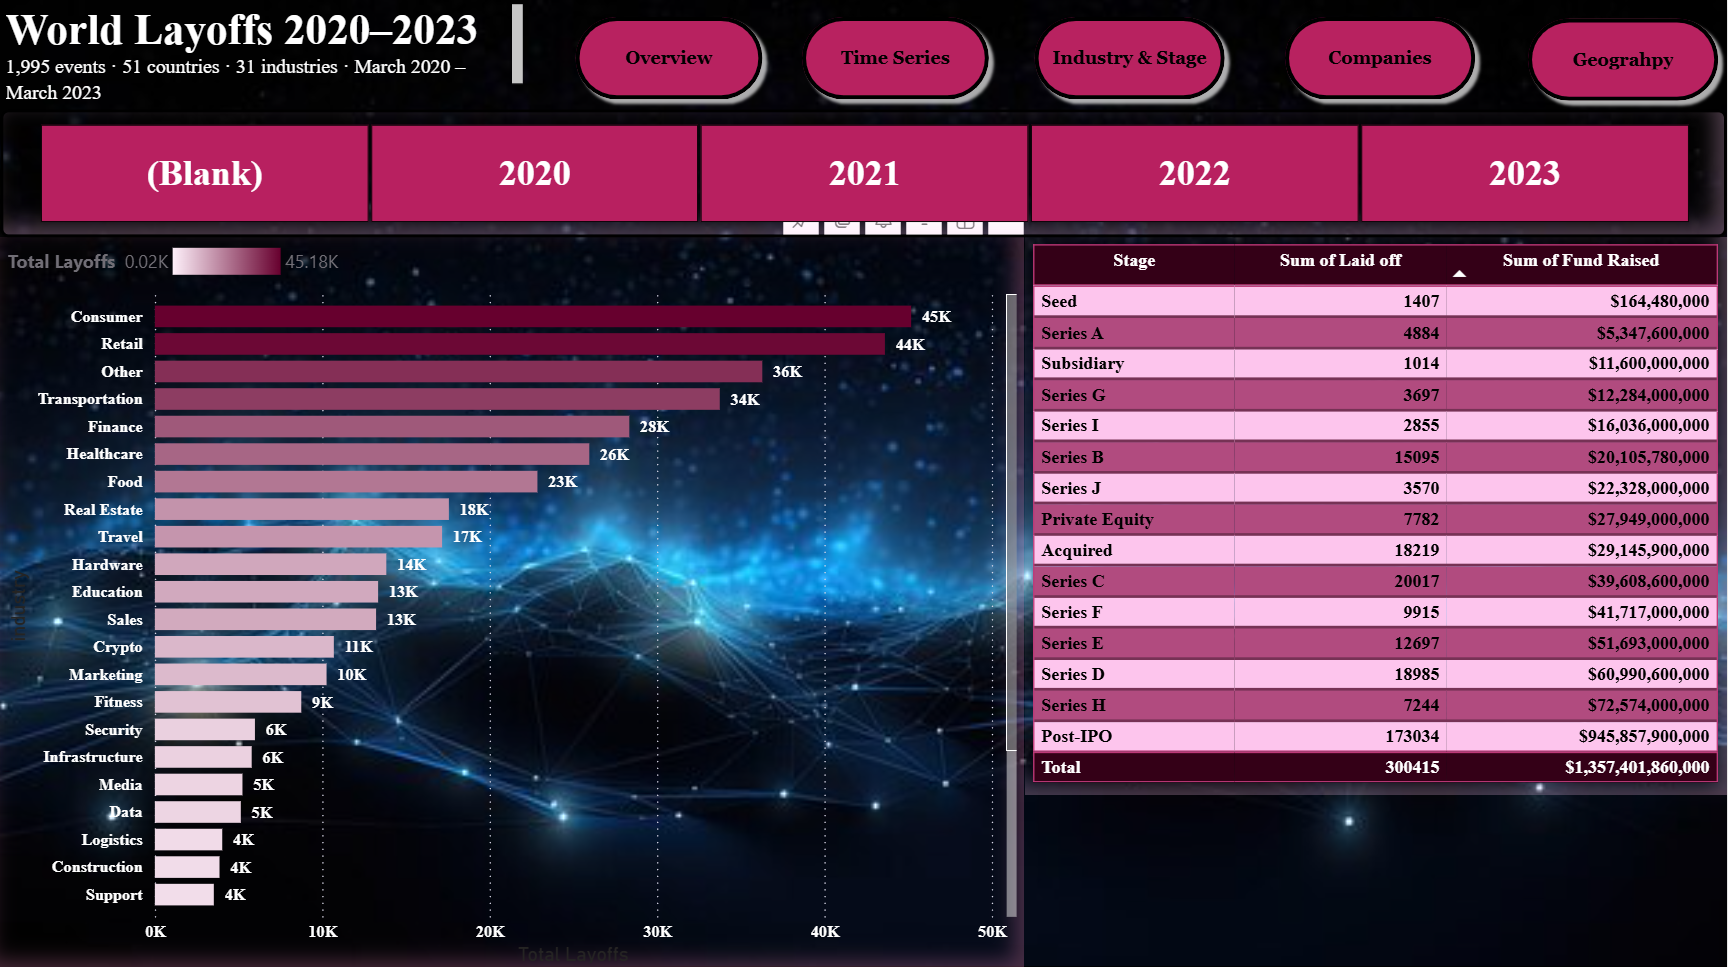

This screenshot's page, from the dashboard's own definition file:
{"tool":"powerbi","page":{"name":"Industry & Stage","canvas":[1280,720],"ordinal":2},"visuals":[{"type":"textbox","box":[0,0,393.1,83.8],"z":0},{"type":"actionButton","title":"Overview","box":[587.5,7.5,152.5,75],"z":1000},{"type":"actionButton","title":"Overview","box":[420,7.5,152.5,75],"z":2000},{"type":"actionButton","title":"Overview","box":[760,7.5,155,75],"z":3000},{"type":"actionButton","title":"Overview","box":[945,7.5,155,75],"z":4000},{"type":"actionButton","title":"Overview","box":[1125,8.3,155,75],"z":5000},{"type":"clusteredBarChart","fields":{"Category":["layoff_staging1.industry"],"Y":["layoff_staging1.Total Layoffs"]},"box":[1.6,177.3,758,543.3],"z":6000},{"type":"tableEx","fields":{"Values":["Query2.Stage","Sum(Query2.Laid off)","Sum(Query2.Fund Raised)"]},"box":[759.6,177.3,520.5,413.1],"z":7000},{"type":"slicer","fields":{"Values":["layoff_staging1.Year"]},"box":[1.6,83,1278.5,94.3],"z":8000}]}

Visuals, with their boxes in screenshot pixels (x1, y1, x2, y2), scaled from the page's 1280x720 canvas onto the 1728x967 screenshot:
textbox: [0, 0, 531, 113]
"Overview" actionButton: [793, 10, 999, 111]
"Overview" actionButton: [567, 10, 773, 111]
"Overview" actionButton: [1026, 10, 1235, 111]
"Overview" actionButton: [1276, 10, 1485, 111]
"Overview" actionButton: [1519, 11, 1727, 112]
clusteredBarChart - layoff_staging1.industry x layoff_staging1.Total Layoffs: [2, 238, 1025, 966]
tableEx - Query2.Stage x Sum(Query2.Laid off): [1025, 238, 1727, 793]
slicer - layoff_staging1.Year: [2, 111, 1727, 238]
